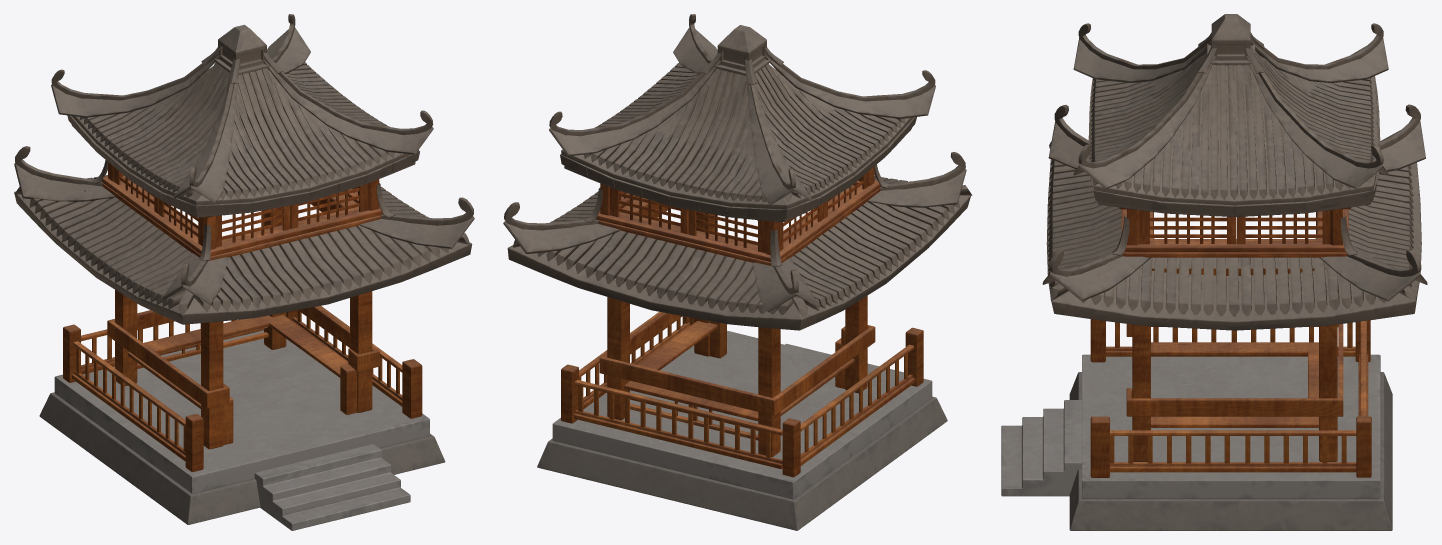
File: pavilion_9.fbx
3 views of the same model, side by side, from view 1: azimuth 30°, elevation 25°; view 2: azimuth 150°, elevation 25°; view 3: azimuth 270°, elevation 25° (orthographic). The views are drawn at different scales.
Parts seen in each view (by area): view 1: liangting_9; view 2: liangting_9; view 3: liangting_9.
Part boxes in pixels (x1,y1,x2,y2): liangting_9: (14,14,474,530); liangting_9: (503,14,972,530); liangting_9: (1001,14,1427,530).
Bounding box in the file's own units: 72.34 × 94.4 × 81.53.
